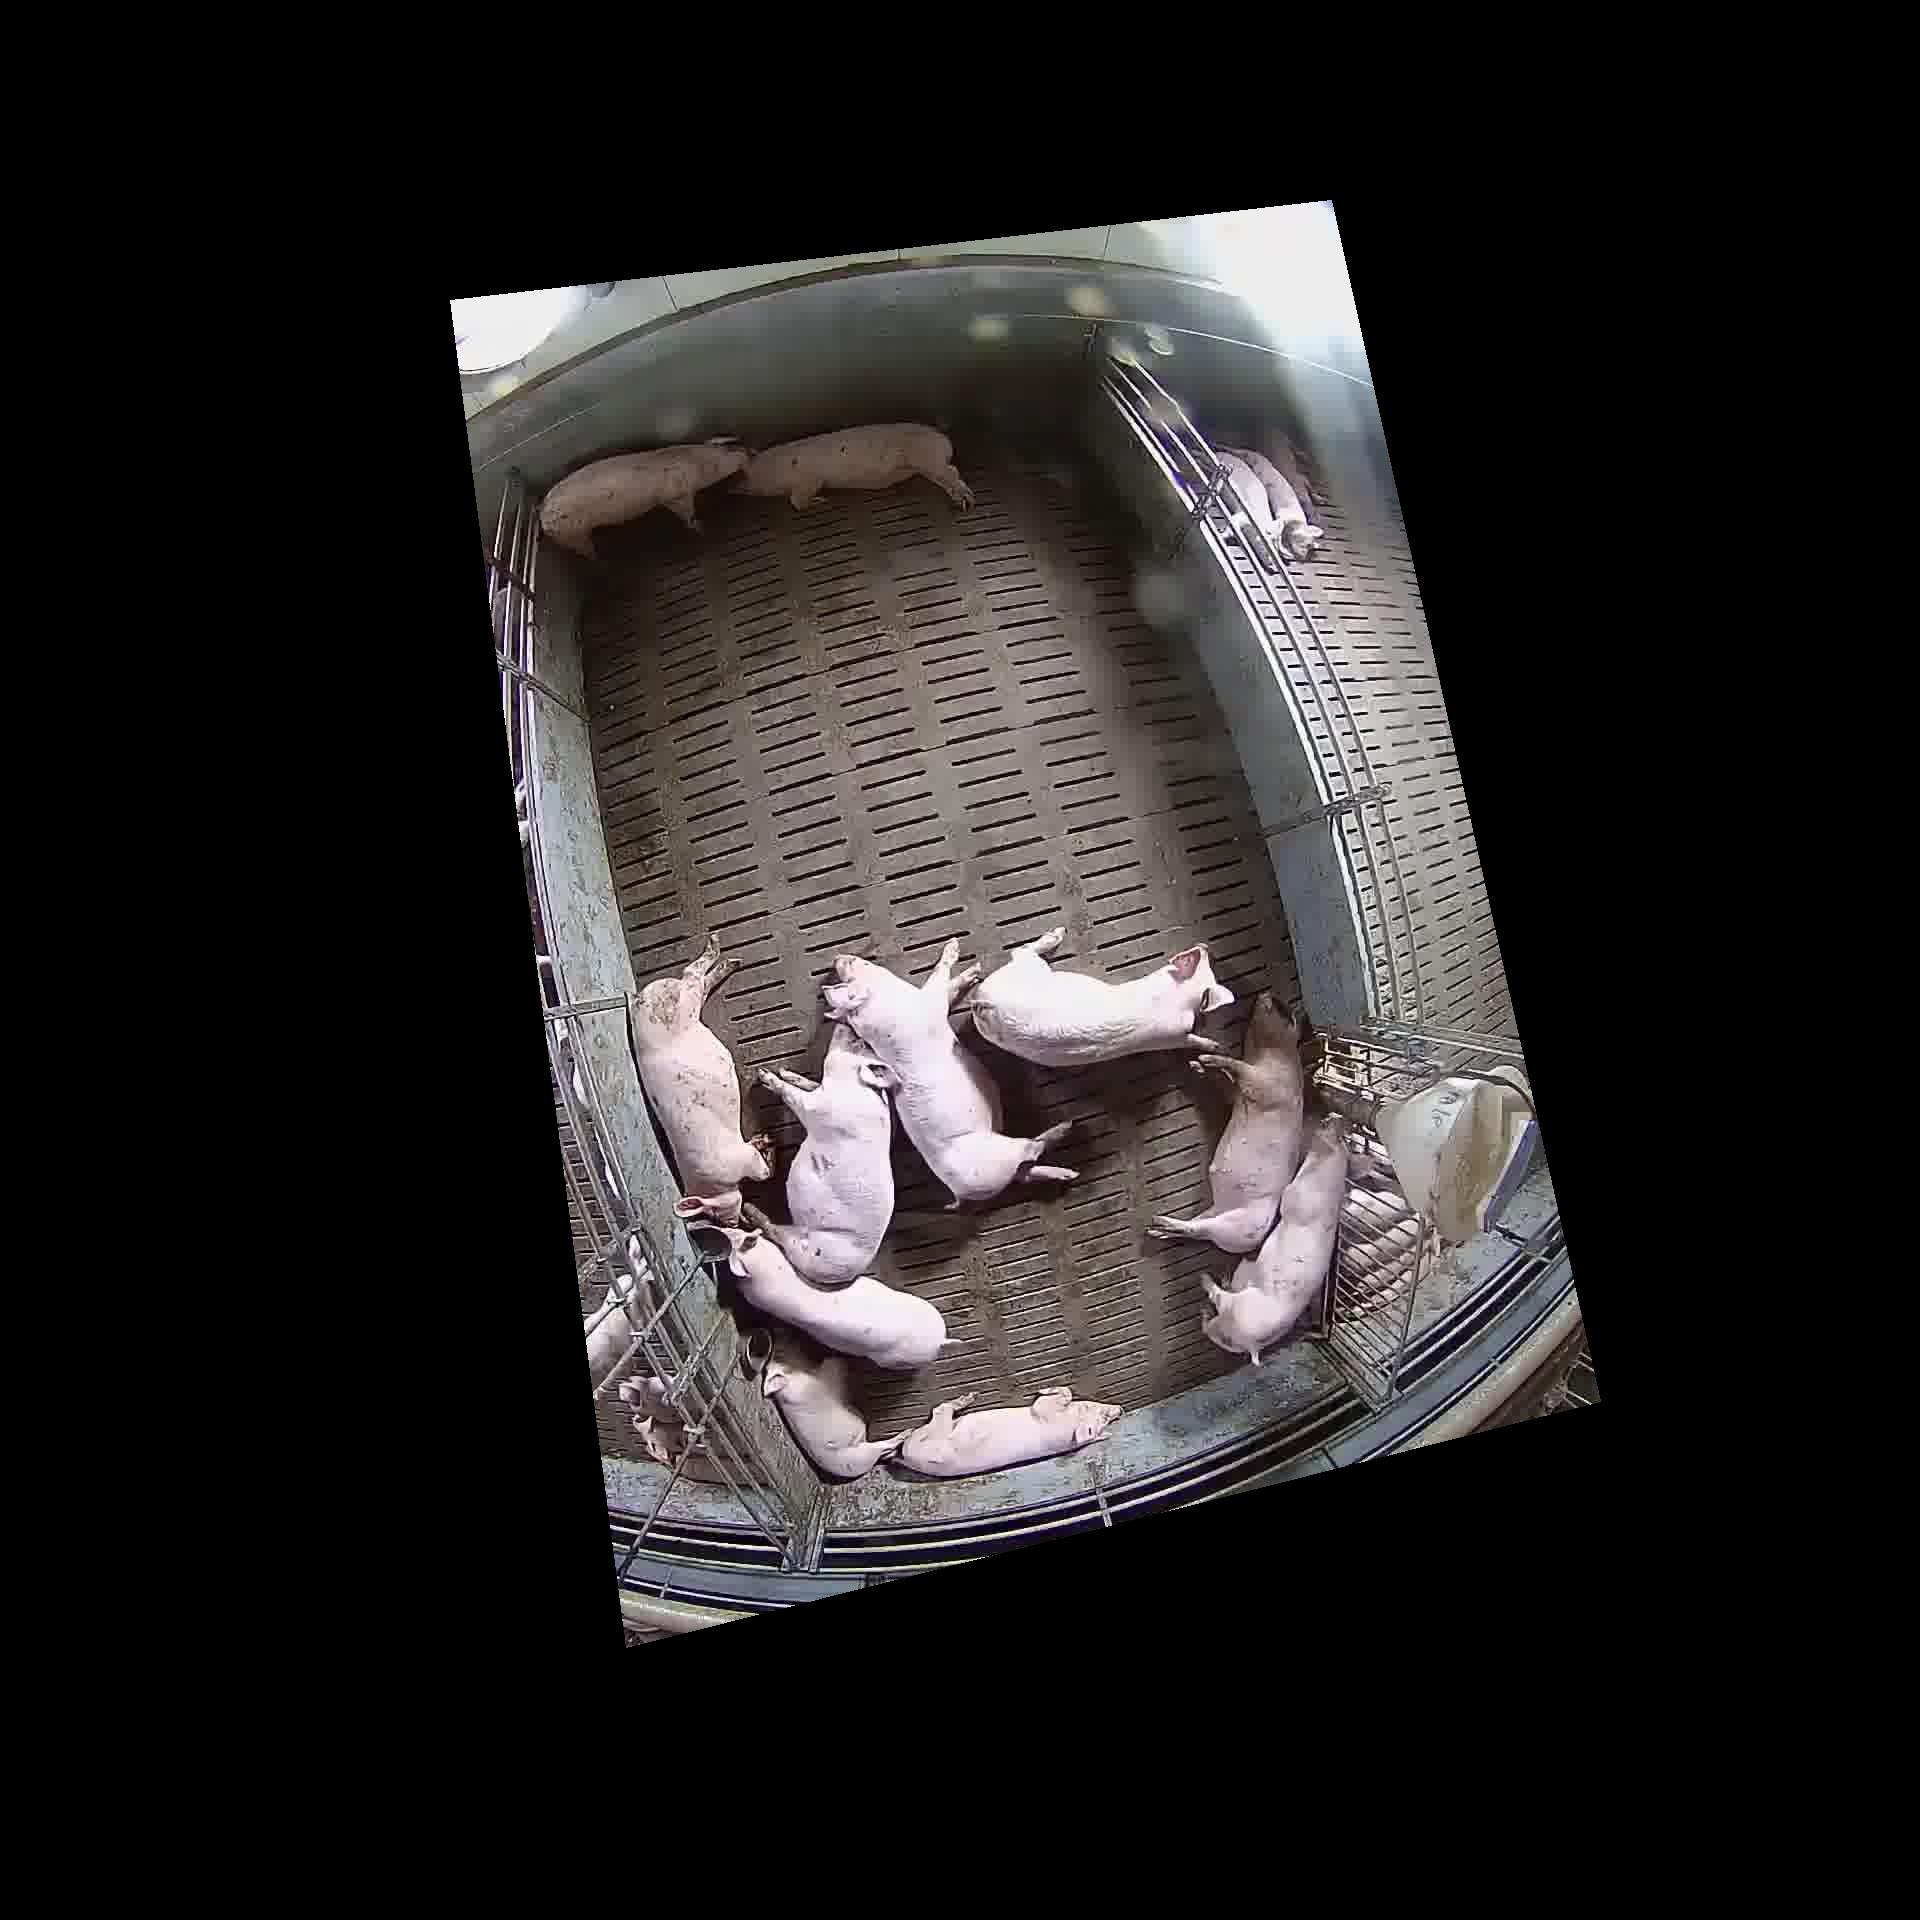pig: (823, 939, 1076, 1201), (626, 934, 770, 1233), (742, 1022, 900, 1284), (1146, 992, 1303, 1252), (1201, 1116, 1371, 1352), (969, 928, 1233, 1065), (698, 1243, 949, 1370), (536, 433, 745, 557), (893, 1385, 1124, 1475), (728, 424, 976, 506), (765, 1354, 916, 1475)
